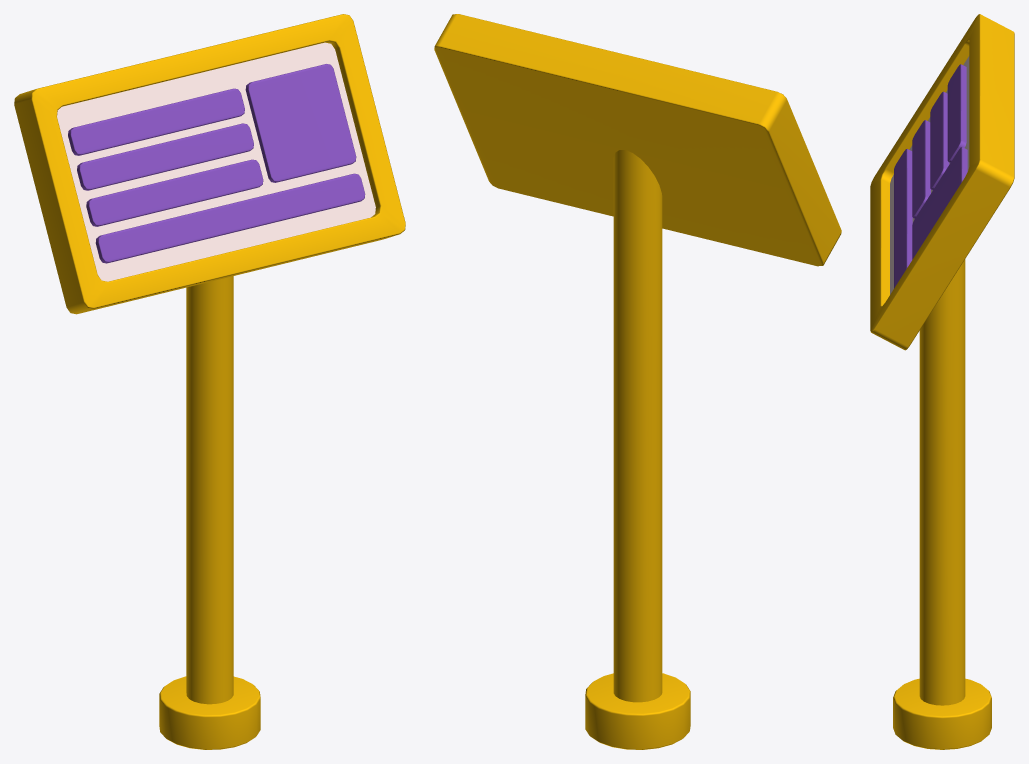
File: Public_9_Museum_Label_2.glb
3 views of the same model, side by side, from view 1: azimuth 30°, elevation 25°; view 2: azimuth 150°, elevation 25°; view 3: azimuth 270°, elevation 25° (orthographic). The views are drawn at different scales.
Visible parts, largest first — view 1: Public_9_Museum_Label_2; view 2: Public_9_Museum_Label_2; view 3: Public_9_Museum_Label_2.
Boxes of the visible parts, x1=… form: Public_9_Museum_Label_2: x1=14, y1=14, x2=405, y2=749; Public_9_Museum_Label_2: x1=434, y1=14, x2=841, y2=749; Public_9_Museum_Label_2: x1=870, y1=14, x2=1014, y2=749.
Size of the model in its own units: 0.9376 by 1.84 by 0.3747.
Materials: 1 (1 with a texture image).
